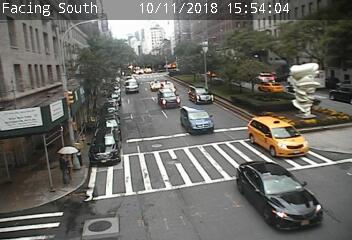car: (248, 117, 308, 159), (180, 106, 213, 136), (188, 86, 214, 104), (158, 88, 180, 108), (258, 82, 284, 93), (159, 81, 176, 94), (150, 80, 162, 91)
